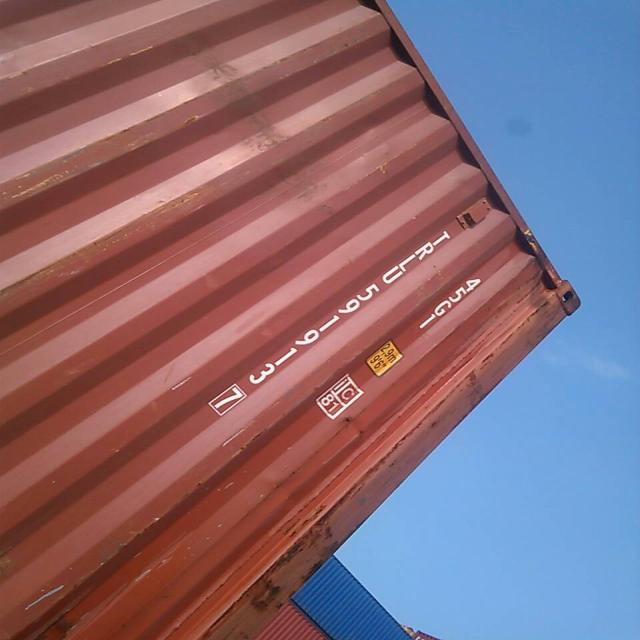rust: (246, 492, 371, 617), (529, 259, 585, 343), (24, 613, 83, 640)
